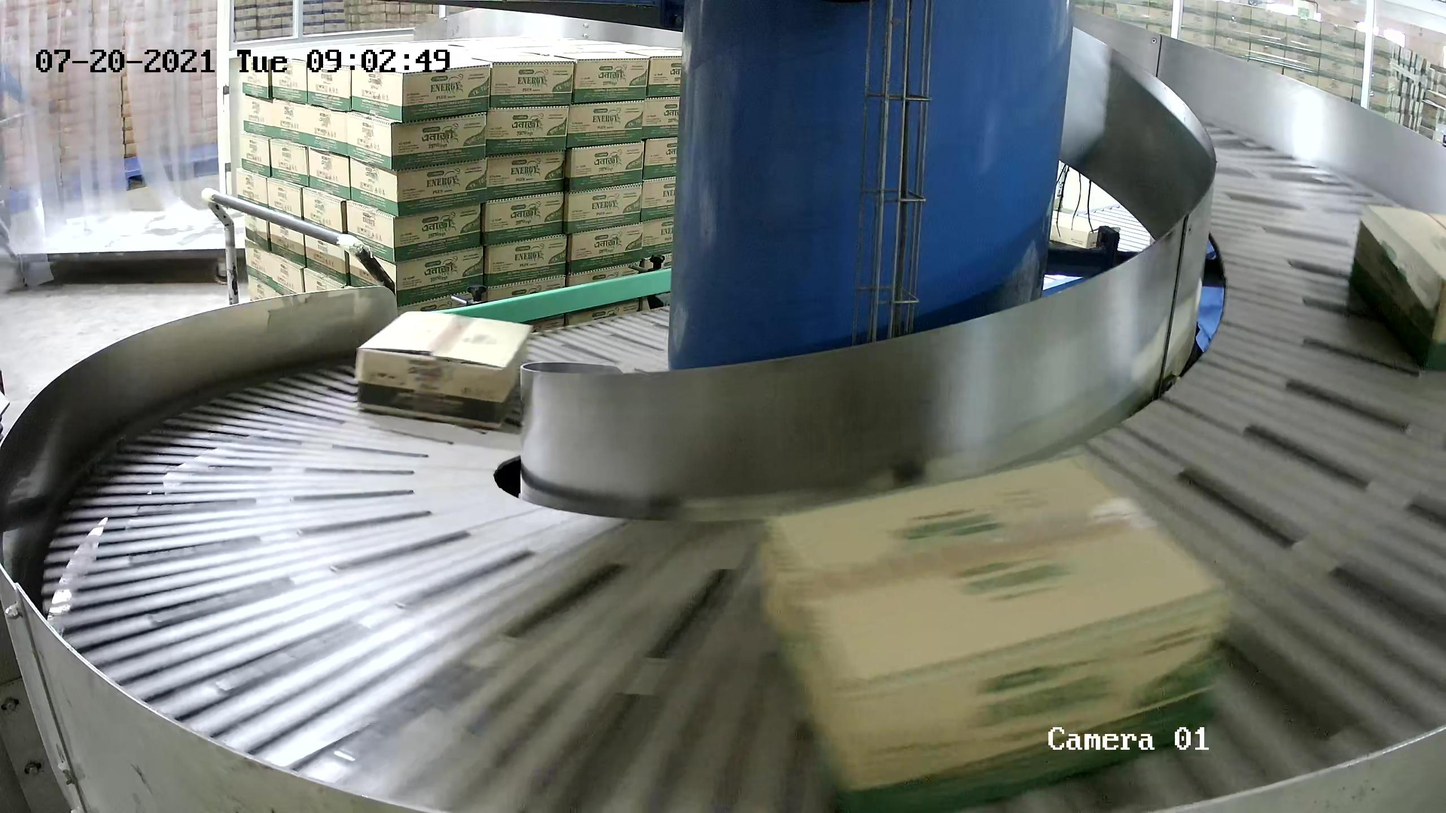Box: (750, 453, 1233, 813), (355, 309, 531, 430), (1346, 200, 1446, 376)
